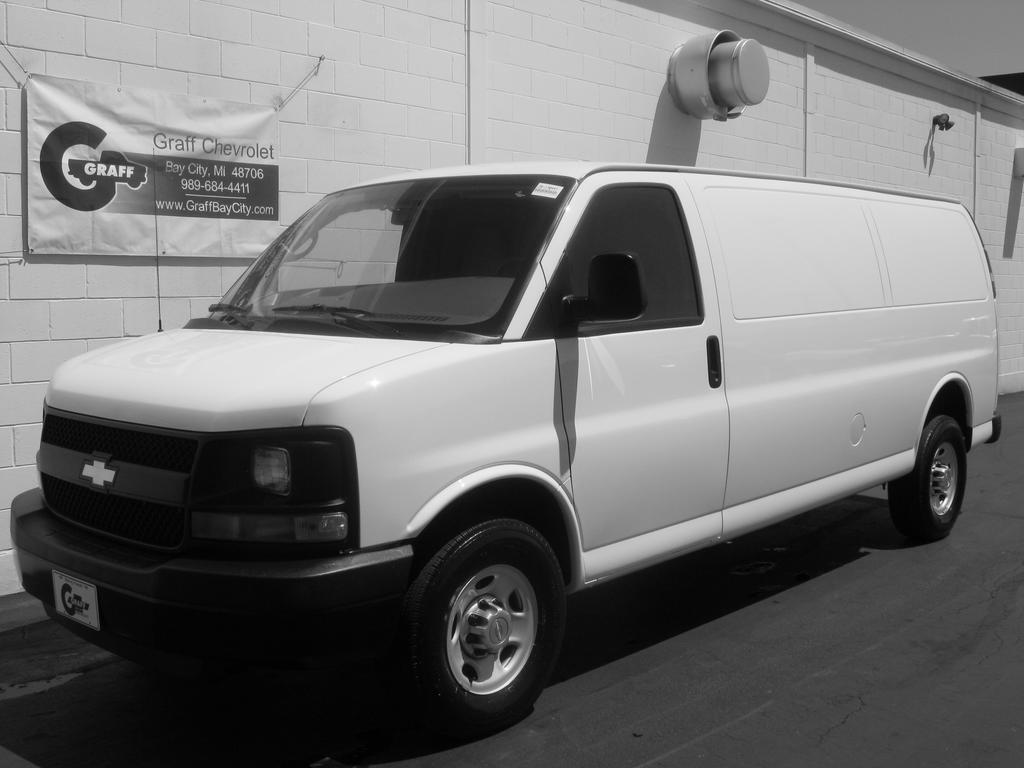car: (7, 166, 1007, 740)
